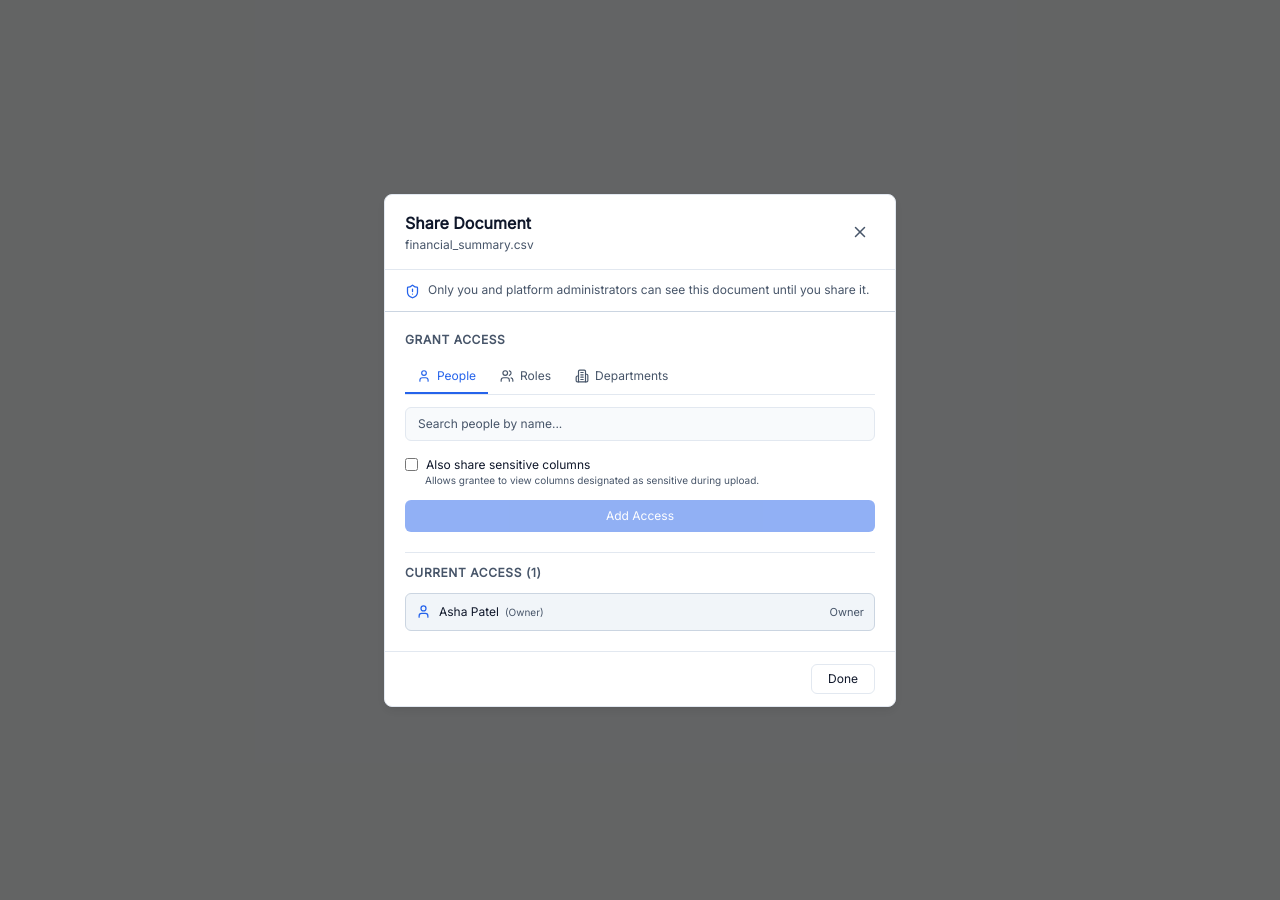
Test: ShareDialog Component › 2. adds access via debounced user search and shows "Shared with <name>"
Type "Vi" into the field with test id "share-people-search". click: {"x": 640, "y": 424}
box: [405,406,875,440]
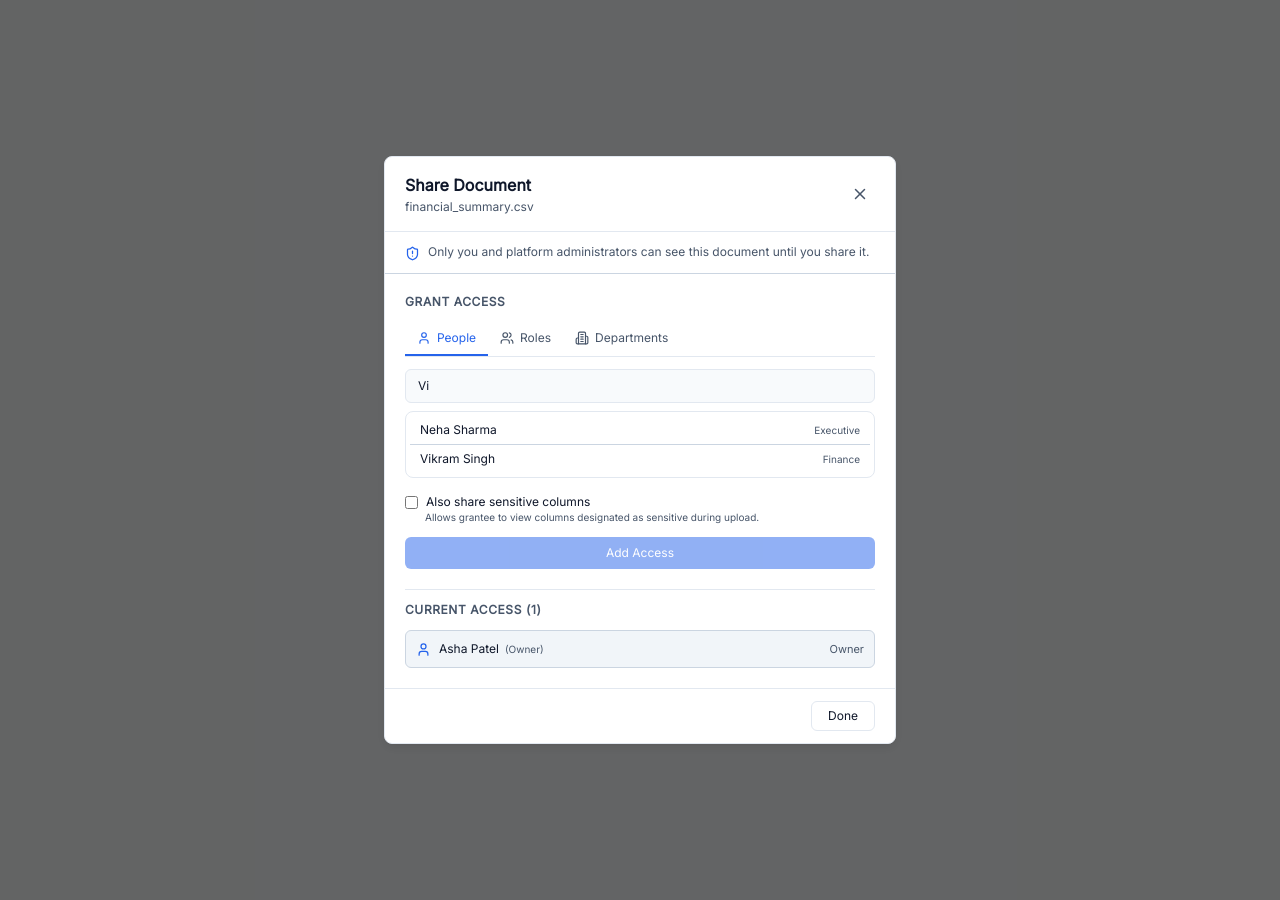
# Click on Vikram Singh from autocomplete options
Click the text "Vikram Singh". click: {"x": 458, "y": 459}
box: [420,451,495,467]
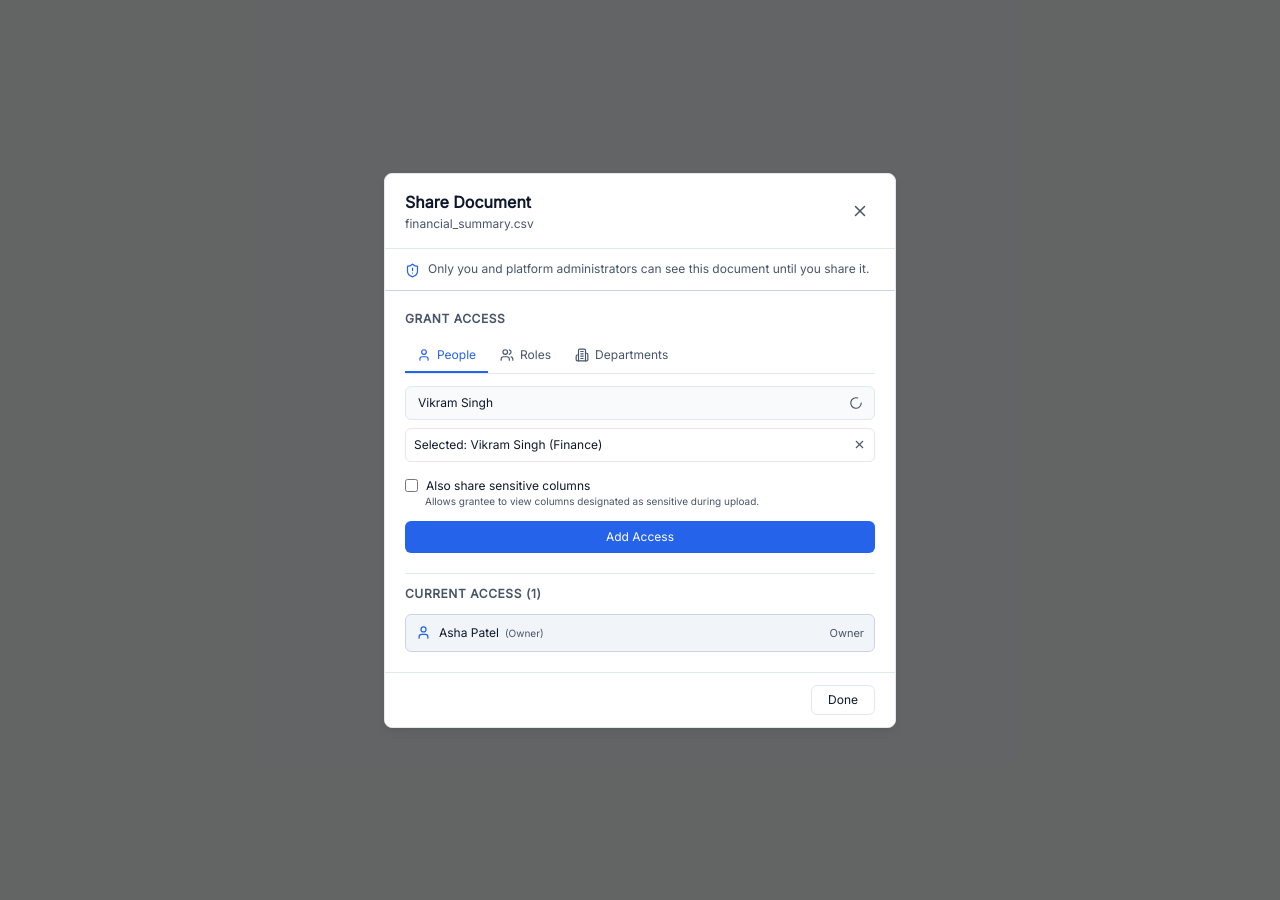
# Check sensitive checkbox (since doc is CSV)
Click the checkbox with test id "share-sensitive-checkbox". click: {"x": 412, "y": 486}
box: [405,479,418,492]
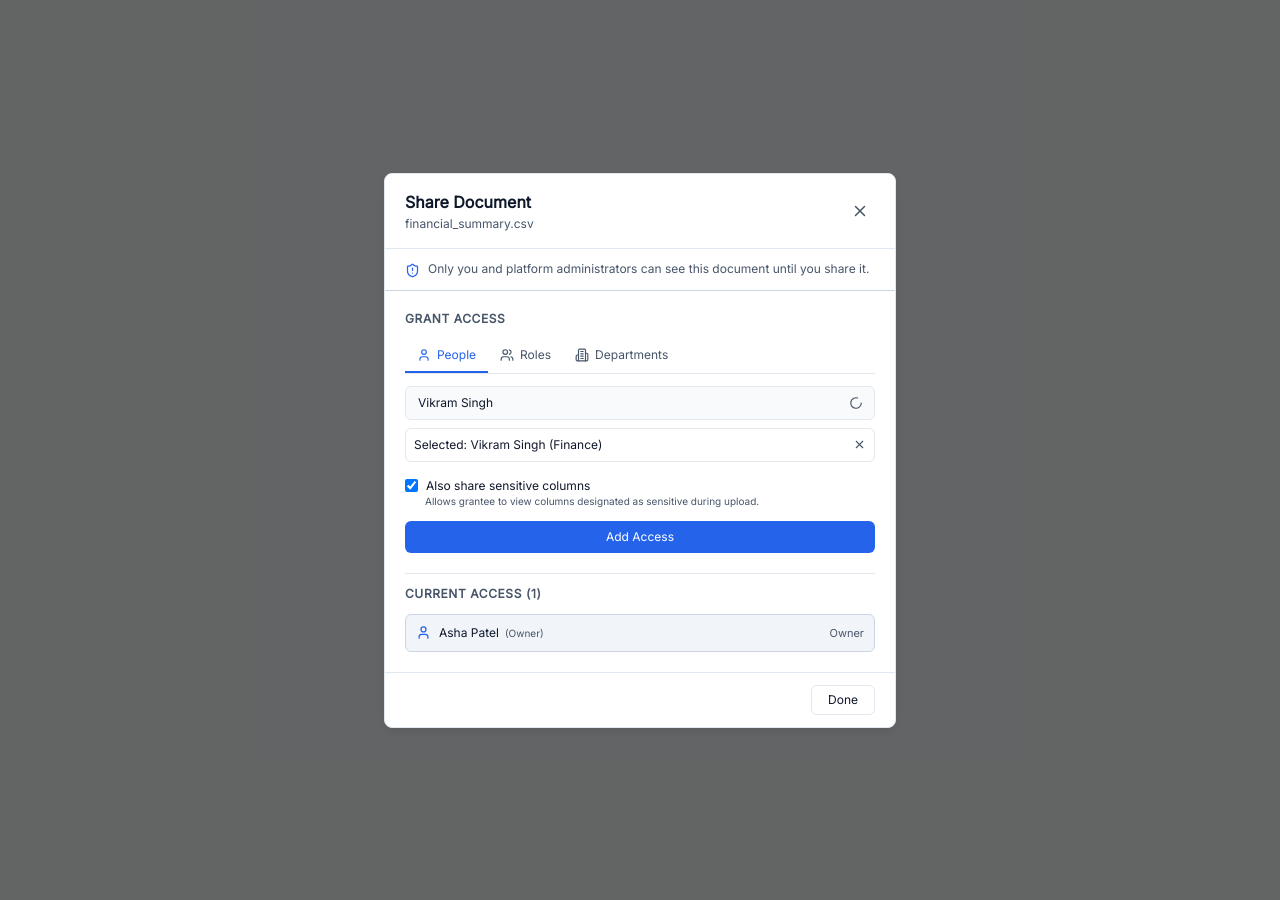
# Click Add access
Click the button with test id "add-share-button". click: {"x": 640, "y": 536}
box: [405,520,875,552]
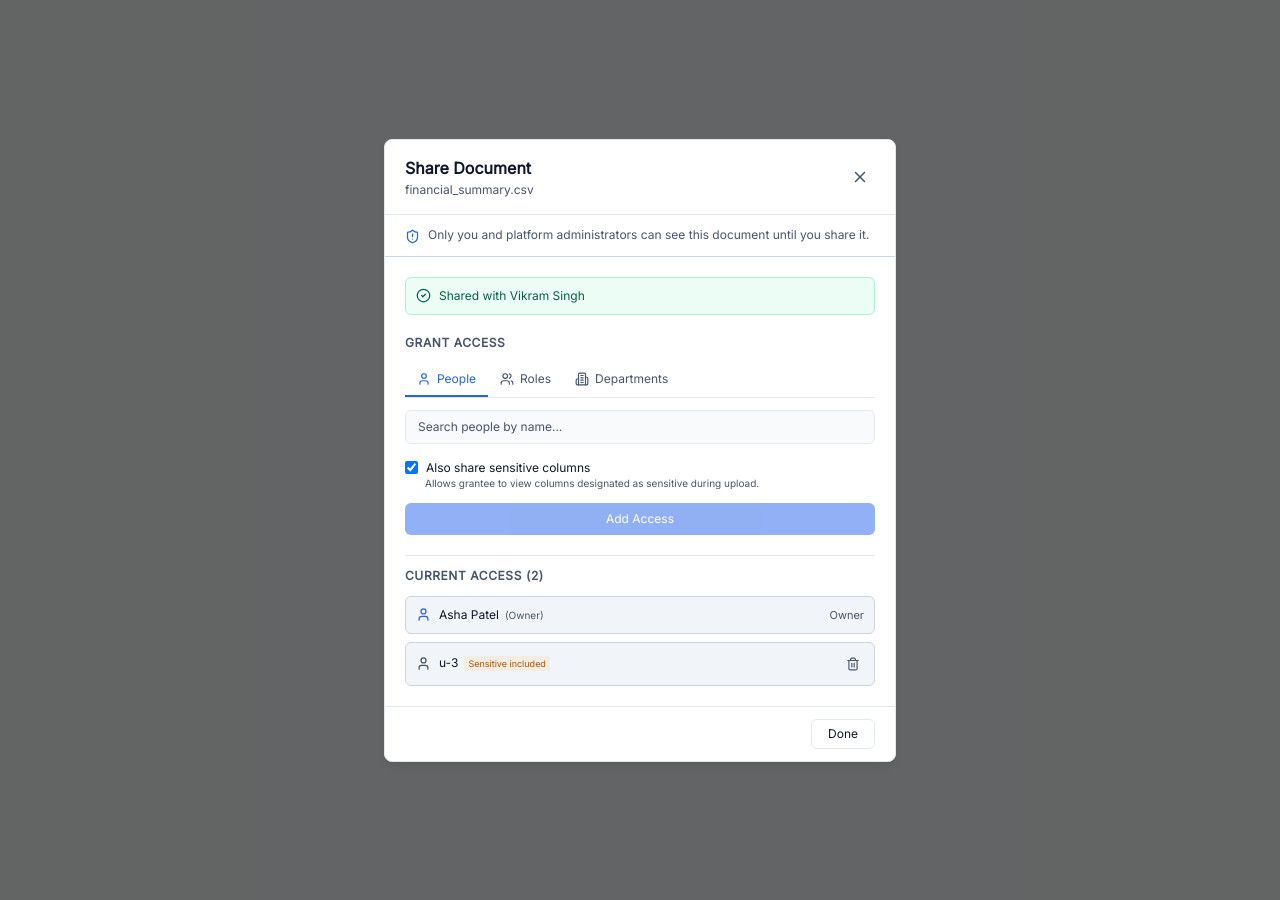
Check: the text "Shared with Vikram Singh" is shown, box [439,288,585,304]
